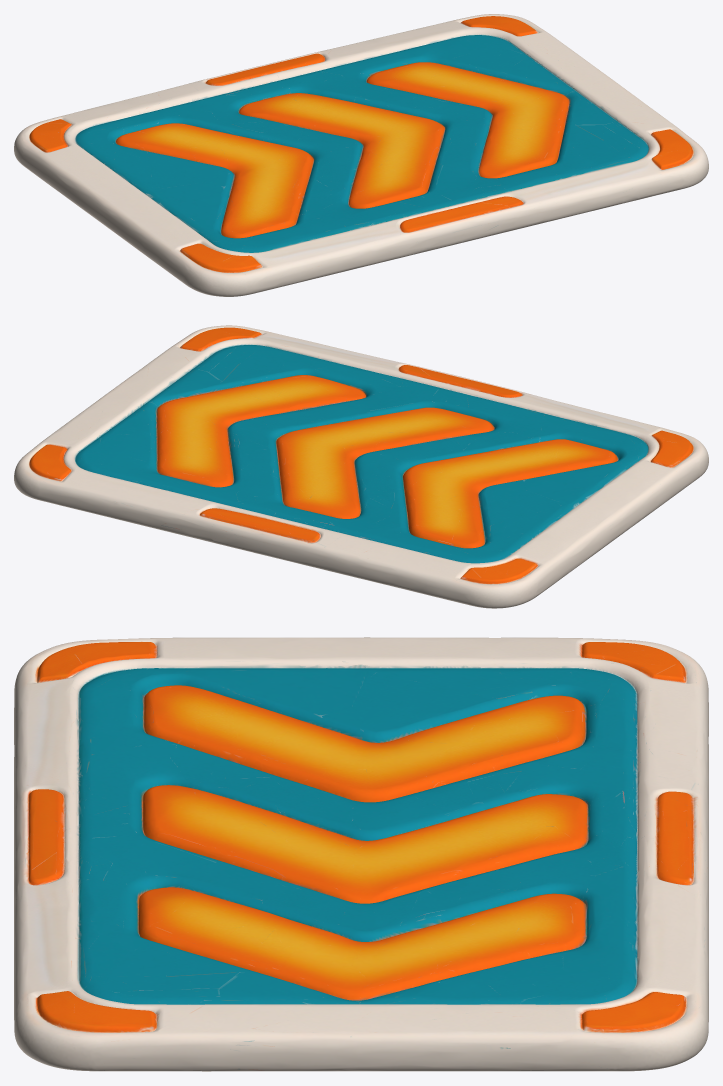
File: Meshy_AI_roofline_speed_boost__1014214538_image-to-3d-texture.glb
3 renders of one model, top to bottom at view 1: azimuth 30°, elevation 25°; view 2: azimuth 150°, elevation 25°; view 3: azimuth 270°, elevation 25°, orthographic. The views are drawn at different scales.
Size of the model in its own units: 1.9 by 0.0866 by 1.38.
1 material, 1 textured.
